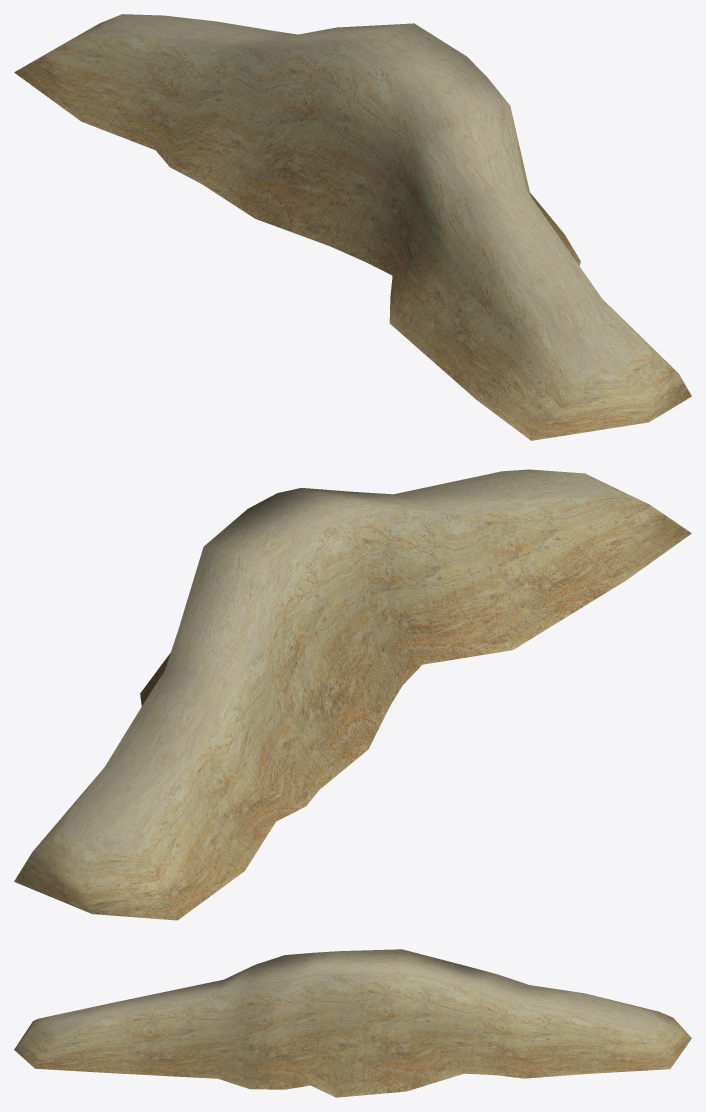
The model's file is rock_beach_spine_a1_l3.fbx.
The picture shows the model from 3 angles, top to bottom: view 1: azimuth 30°, elevation 25°; view 2: azimuth 150°, elevation 25°; view 3: azimuth 270°, elevation 25°; orthographic projection. The views are drawn at different scales.
Parts seen in each view (by area): view 1: mesh_node; view 2: mesh_node; view 3: mesh_node.
Part boxes in pixels (x1,y1,x2,y2): mesh_node: (14, 14, 691, 440); mesh_node: (14, 469, 691, 920); mesh_node: (14, 949, 691, 1097).
Bounding box in the file's own units: 7.83 × 4.8 × 28.36.
